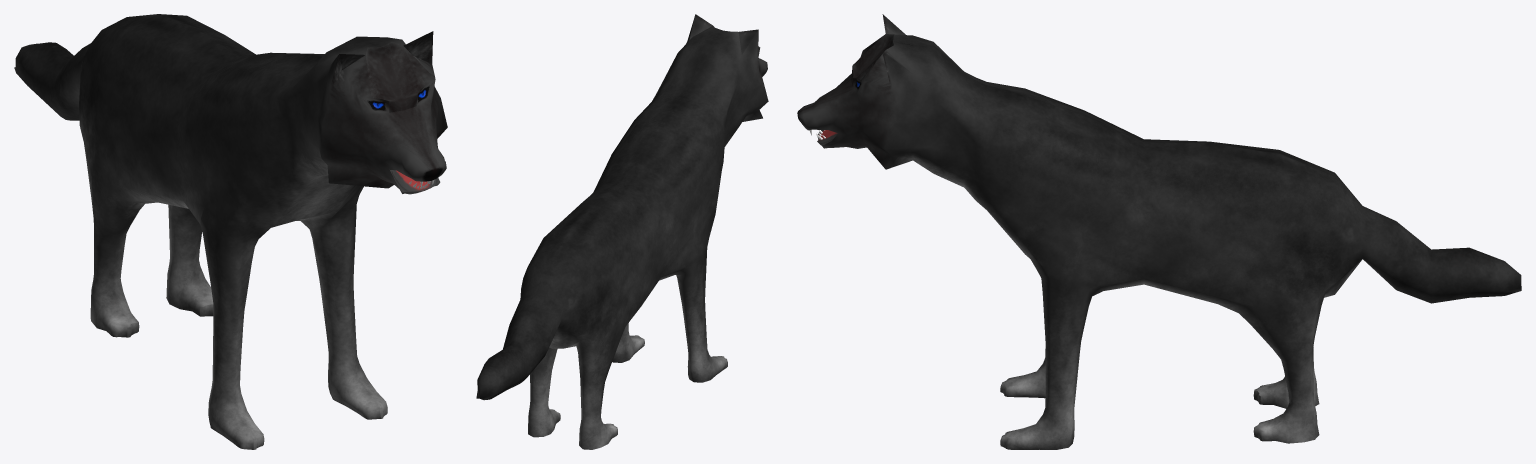
Rendered from 늑대 오브젝트.fbx.
3 views of the same model, side by side, from view 1: azimuth 30°, elevation 25°; view 2: azimuth 150°, elevation 25°; view 3: azimuth 270°, elevation 25° (orthographic). The views are drawn at different scales.
Parts seen in each view (by area): view 1: 늑대; view 2: 늑대; view 3: 늑대.
Boxes of the visible parts, x1=… form: 늑대: x1=14, y1=14, x2=447, y2=449; 늑대: x1=476, y1=14, x2=768, y2=449; 늑대: x1=797, y1=14, x2=1521, y2=449.
Size of the model in its own units: 187 by 516 by 877.
2 materials, 1 textured.
